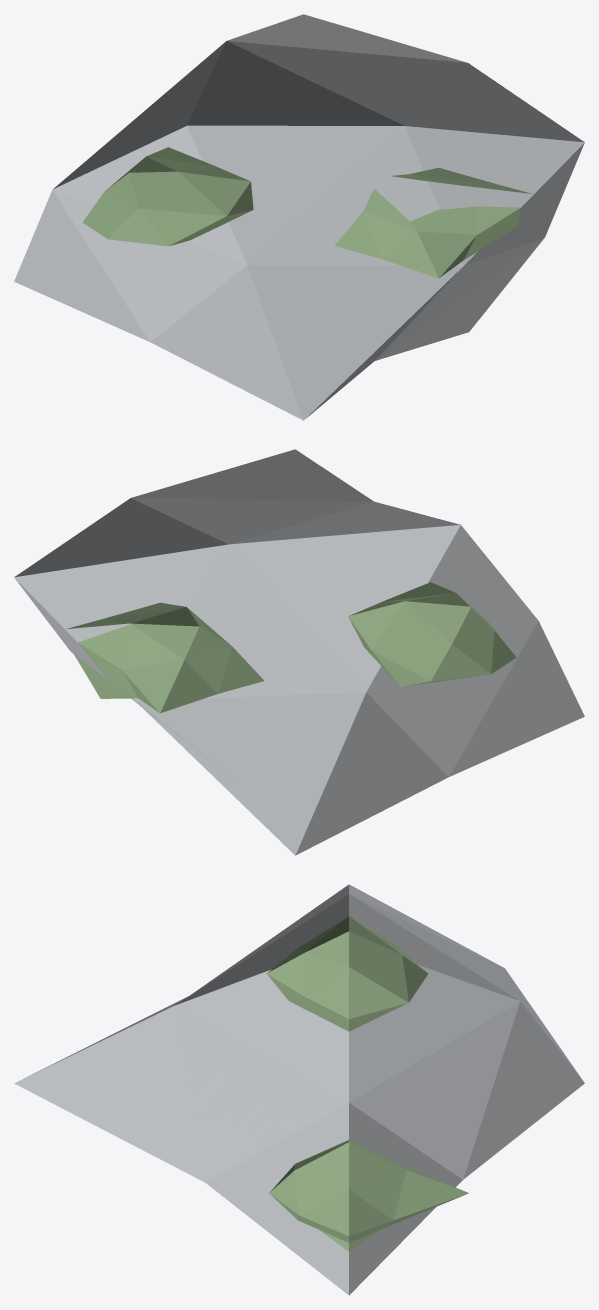
The model's file is moss_rock_v42.glb.
3 renders of one model, top to bottom at view 1: azimuth 30°, elevation 25°; view 2: azimuth 150°, elevation 25°; view 3: azimuth 270°, elevation 25°, orthographic.
Parts seen in each view (by area): view 1: lod0; view 2: lod0; view 3: lod0.
Boxes of the visible parts, bbox=[...] form: lod0: bbox=[14, 14, 584, 420]; lod0: bbox=[14, 449, 584, 855]; lod0: bbox=[14, 884, 584, 1295].
Size of what is drawn, in the model's own units: 1.16 by 0.7897 by 0.9934.
